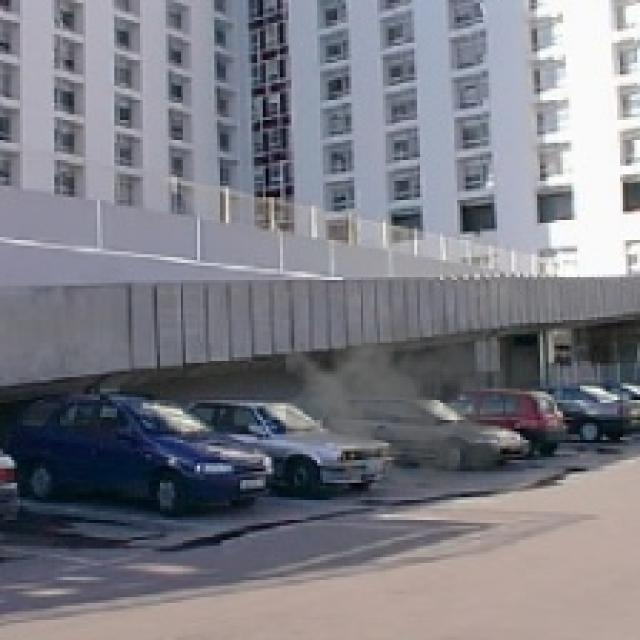Smoke: (286, 288, 540, 503)
